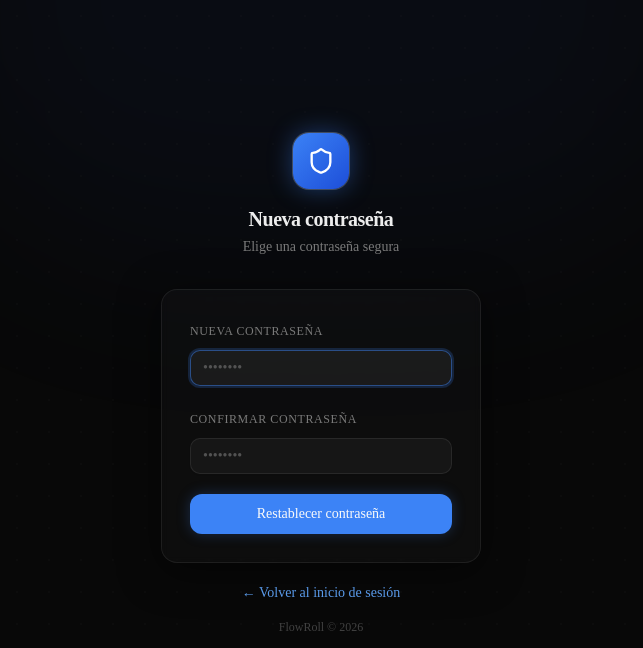
it: PasswordResetConfirmPage › shows success message and redirects on valid submission
Type "newpassword123" into the password field labelled "Nueva contraseña" at (321, 368), box [190,350,452,386]
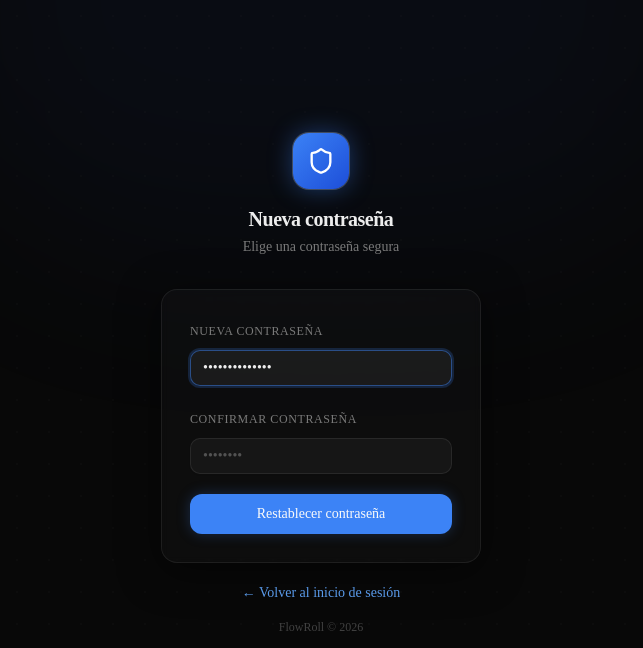
Type "newpassword123" into the password field labelled "Confirmar contraseña" at (321, 456), box [190,438,452,474]
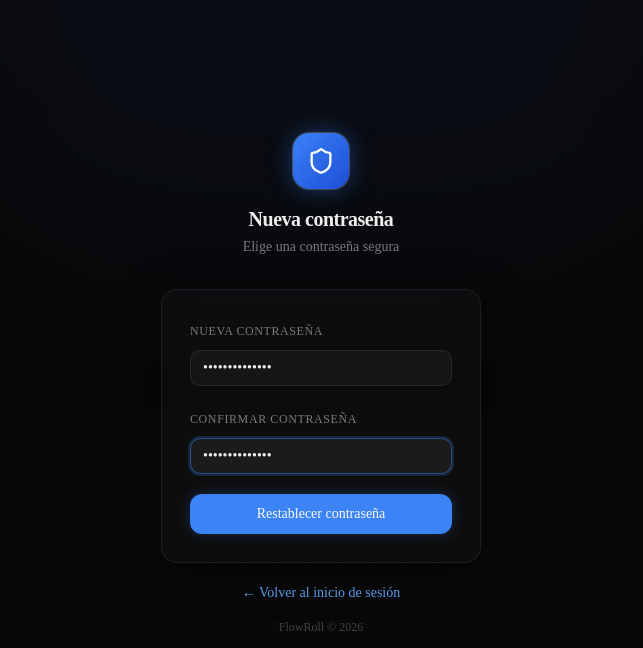
Click the button "Restablecer contraseña" at (321, 514), box [190,494,452,534]
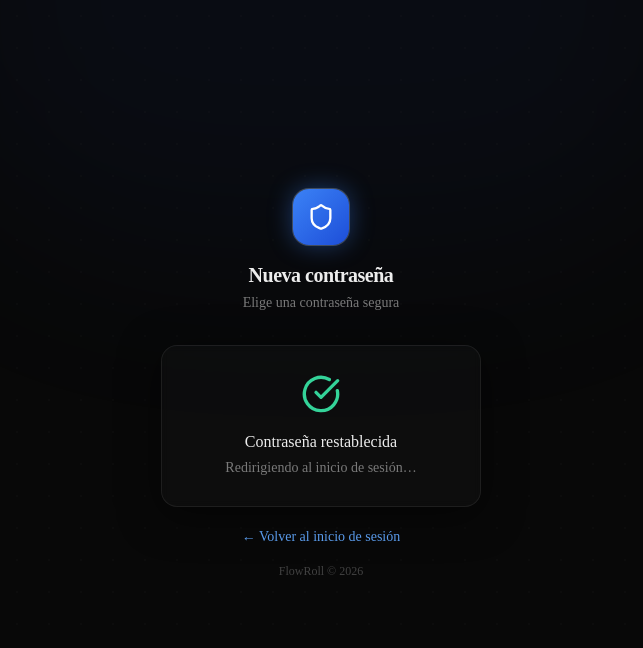
Expected: the text "Contraseña restablecida" is shown, [245,433,397,450]
